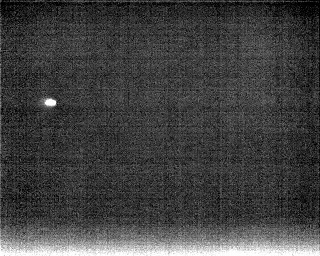AIRPLANE: (42, 95, 58, 109)
